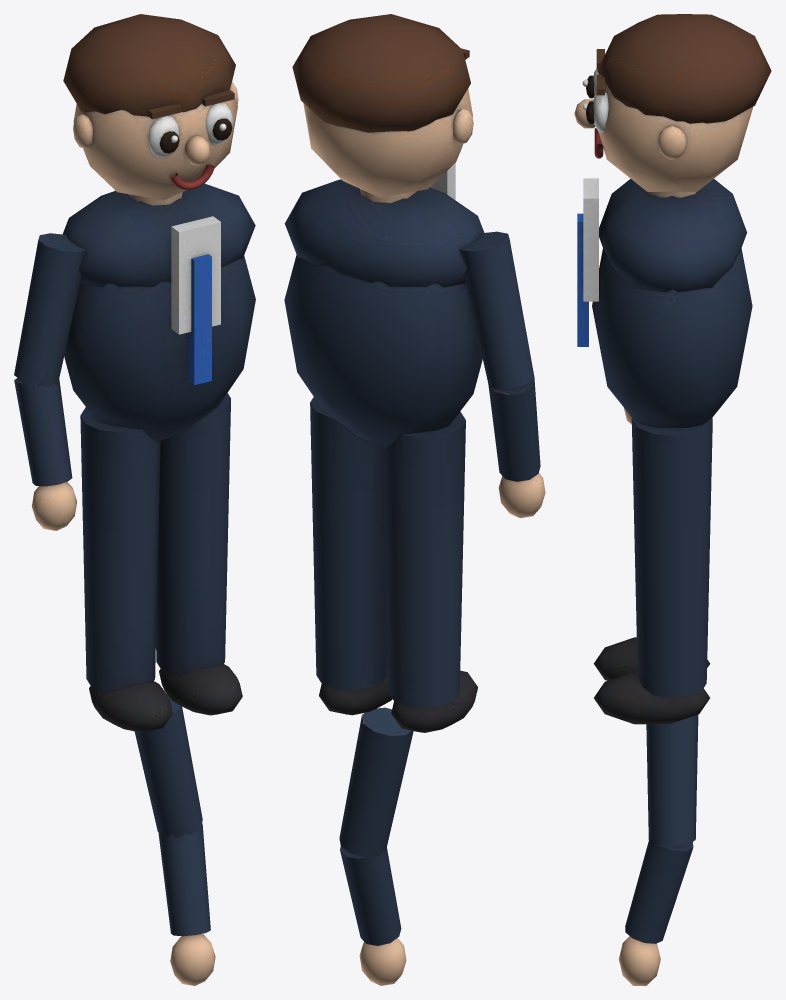
File: ejecutivo.glb
3 views of the same model, side by side, from view 1: azimuth 30°, elevation 25°; view 2: azimuth 150°, elevation 25°; view 3: azimuth 270°, elevation 25° (orthographic). The views are drawn at different scales.
Parts seen in each view (by area): view 1: ejecutivo_cuerpo, ejecutivo_brazo; view 2: ejecutivo_cuerpo, ejecutivo_brazo; view 3: ejecutivo_cuerpo, ejecutivo_brazo.
Boxes of the visible parts, <box> form: ejecutivo_cuerpo: <box>14,14,255,732</box>; ejecutivo_brazo: <box>134,694,215,985</box>; ejecutivo_cuerpo: <box>284,14,545,732</box>; ejecutivo_brazo: <box>339,707,413,985</box>; ejecutivo_cuerpo: <box>574,14,771,724</box>; ejecutivo_brazo: <box>618,714,698,985</box>.
Bounding box in the file's own units: 0.6681 × 2.66 × 0.5004.
2 materials, 2 textured.
